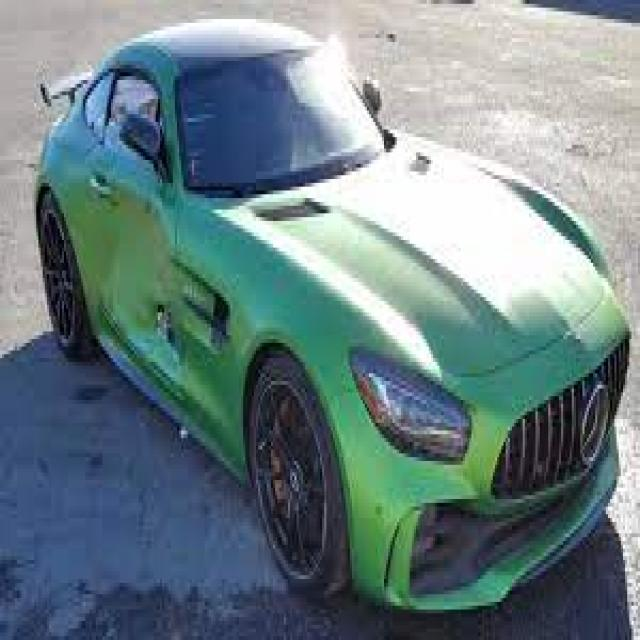minor: (144, 284, 199, 374)
